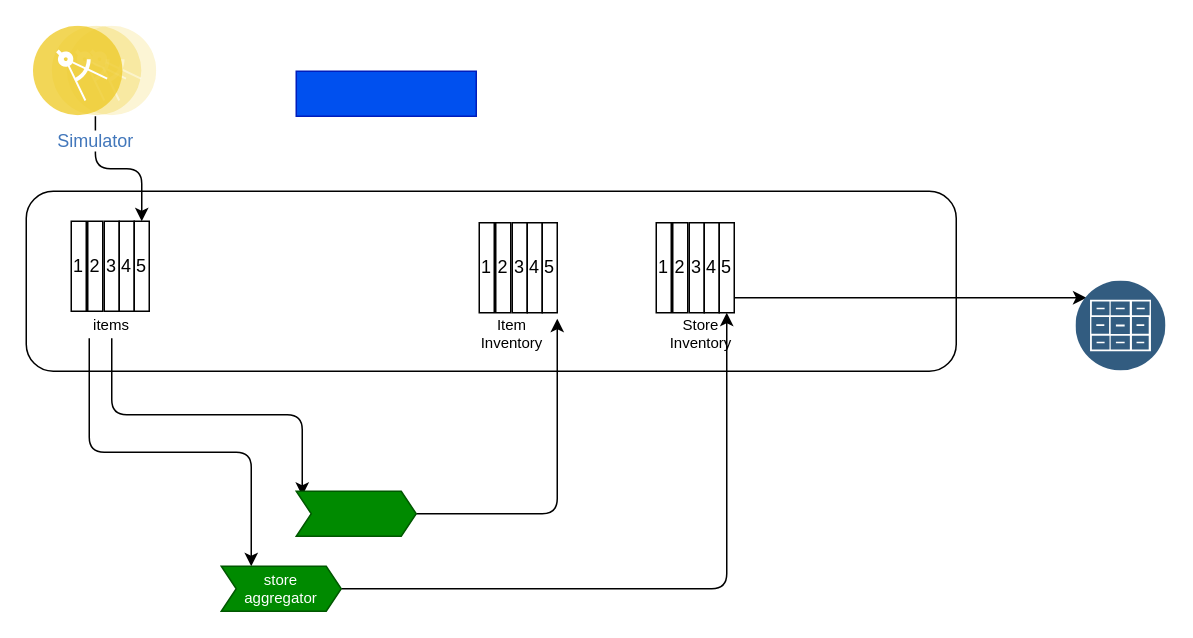
Some shapes in this 1193 by 638 pixel diagram are drawn without their labels. Each missing label, with the box of its shape:
item aggregator: (295, 490, 416, 536)
Schema Registry: (295, 70, 476, 116)
